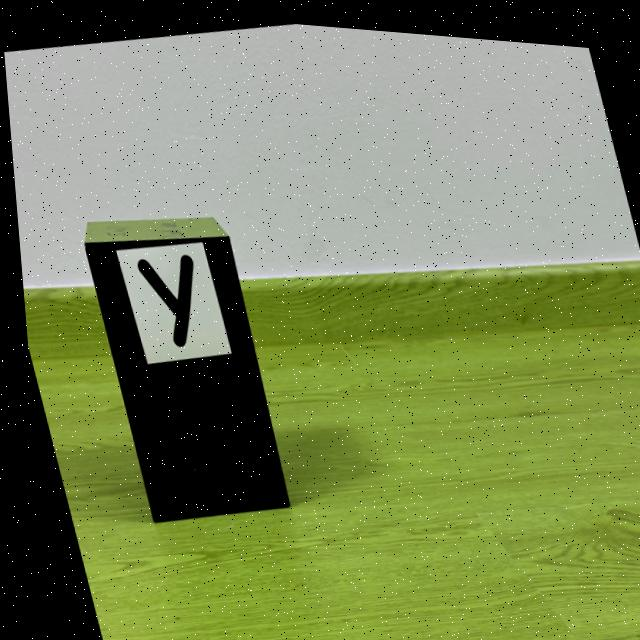Y: (132, 251, 189, 344)
